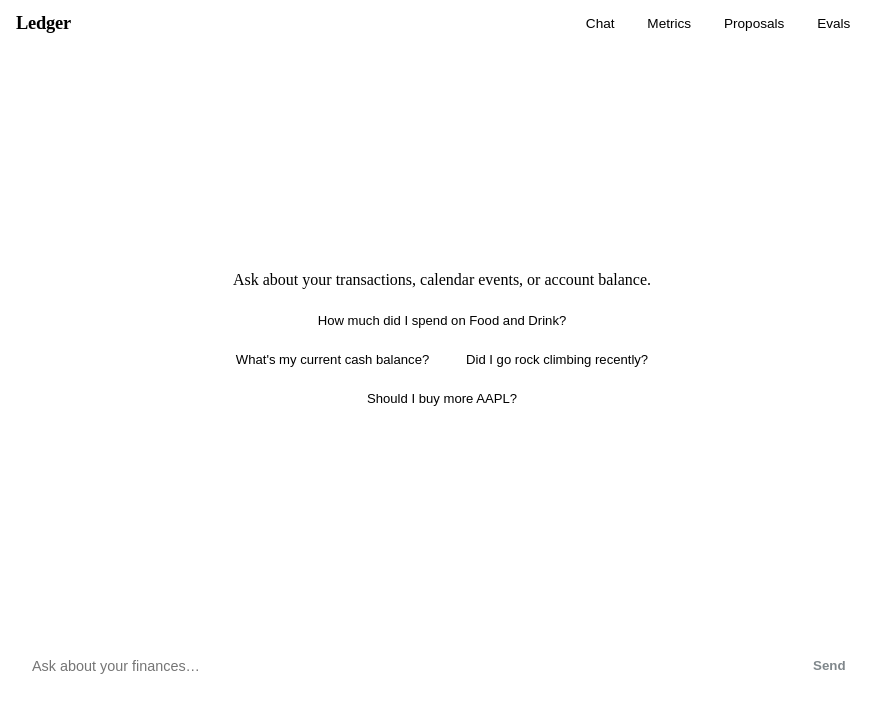
sign-in › shows the server's limit message when a turn is refused
Type "Hi" into the field named "Message".
click(398, 666); type("Hi")  # box [16, 647, 781, 685]
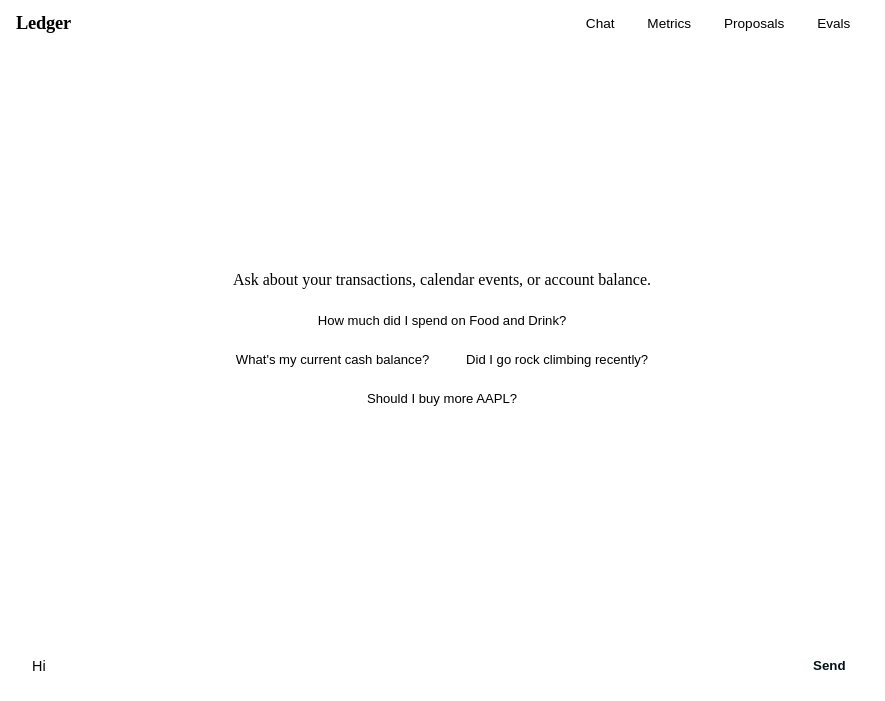
Click the button "Send".
click(829, 666)  # box [791, 647, 868, 685]
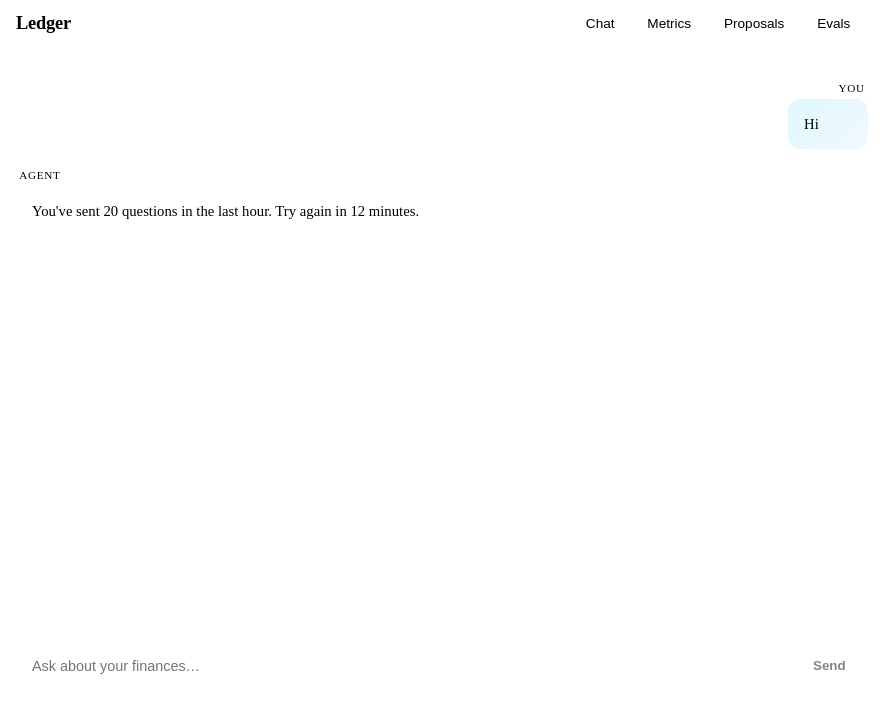
Result: the text "20 questions in the last hour" is shown at [32, 202, 419, 218]
